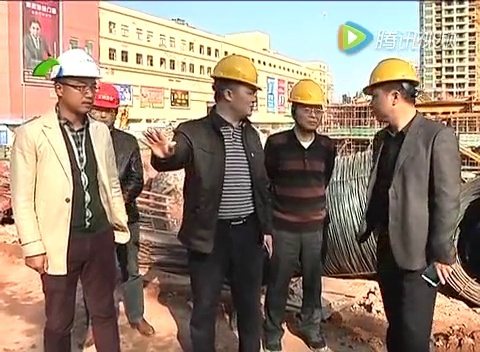red: (89, 82, 120, 128)
white: (49, 47, 98, 113)
yellow: (364, 54, 417, 124), (209, 54, 259, 116), (286, 75, 326, 132)
